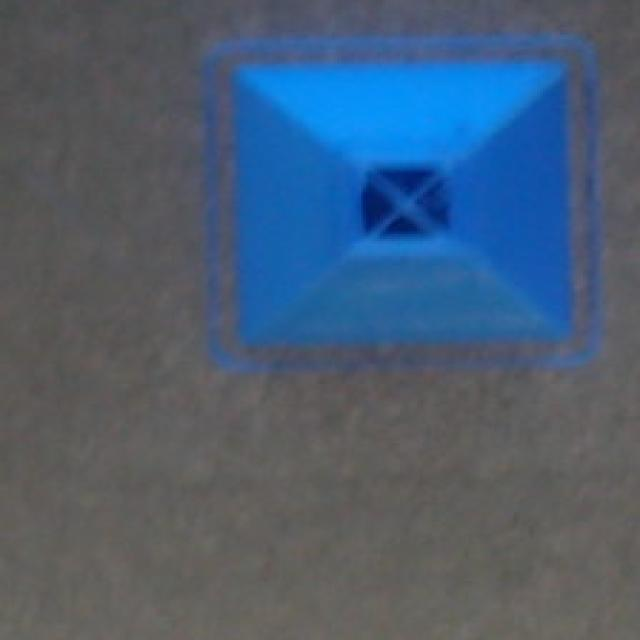mistake: (206, 37, 597, 364)
